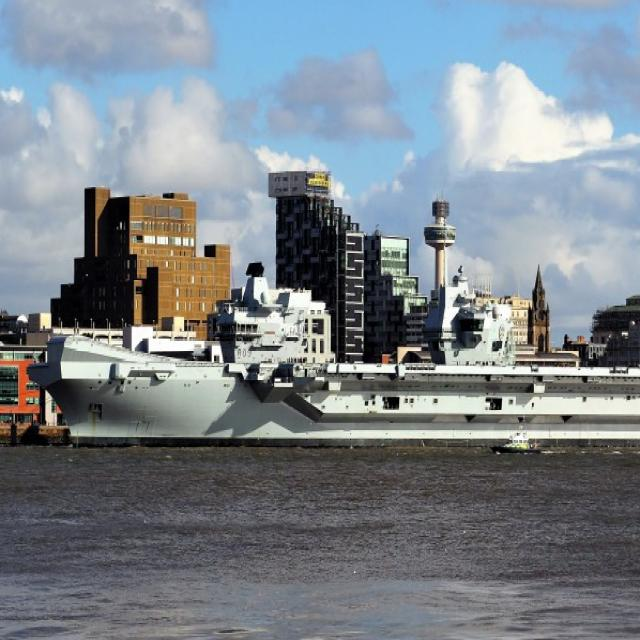Portanaves: (28, 261, 640, 458)
